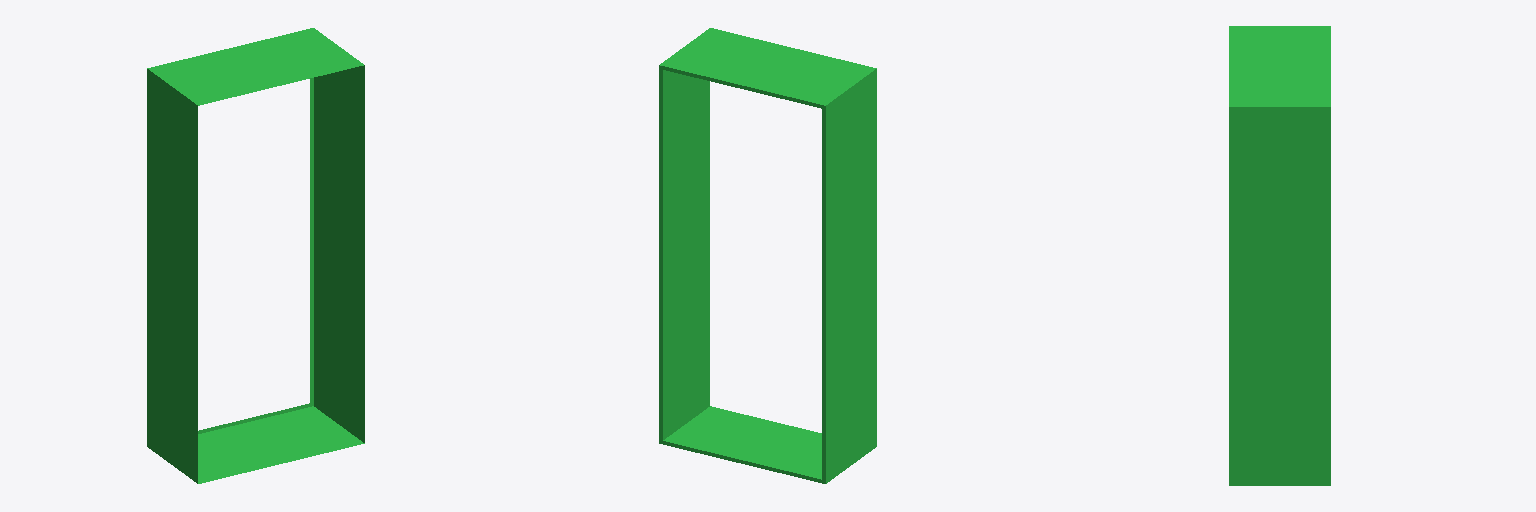
Rendered from original-19.obj.
3 views of the same model, side by side, from view 1: azimuth 30°, elevation 25°; view 2: azimuth 150°, elevation 25°; view 3: azimuth 270°, elevation 25° (orthographic).
Visible parts, largest first — view 1: #ID151; view 2: #ID151; view 3: #ID151.
Part boxes in pixels (bbox=[...]): #ID151: bbox=[147, 28, 364, 483]; #ID151: bbox=[659, 28, 876, 483]; #ID151: bbox=[1229, 26, 1330, 485].
Bounding box in the file's own units: 0.1116 × 0.2421 × 0.0593.